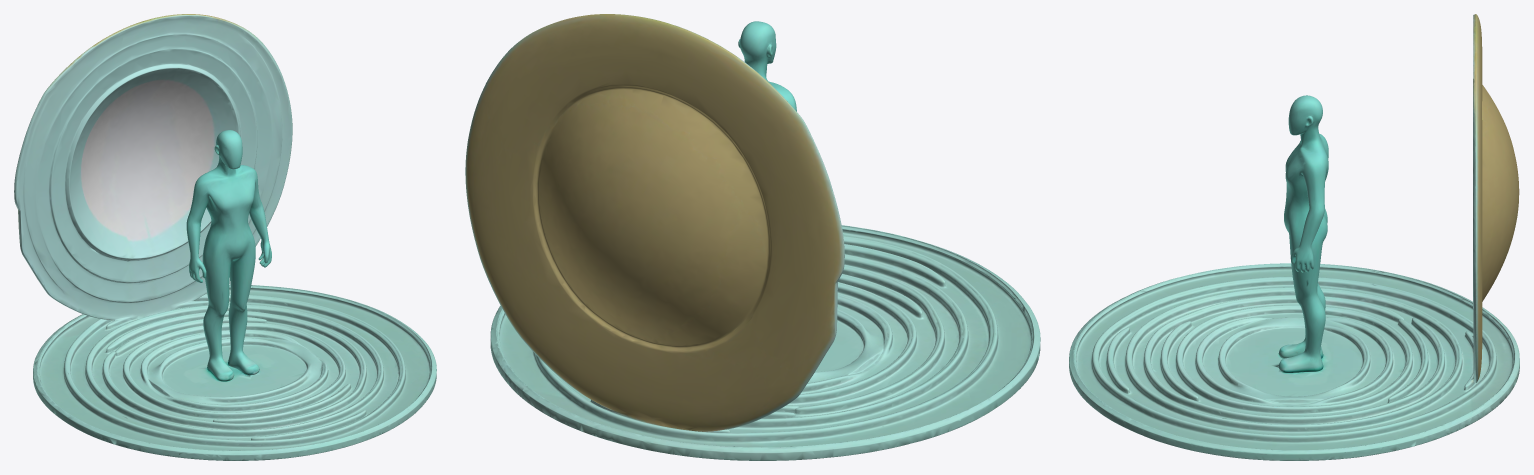
The model's file is model-web.glb.
3 views of the same model, side by side, from view 1: azimuth 30°, elevation 25°; view 2: azimuth 150°, elevation 25°; view 3: azimuth 270°, elevation 25° (orthographic). The views are drawn at different scales.
Parts seen in each view (by area): view 1: node_0; view 2: node_0; view 3: node_0.
Part boxes in pixels (box(x1,y1,x2,y2)): node_0: box(14, 14, 436, 460); node_0: box(465, 14, 1040, 460); node_0: box(1069, 14, 1519, 460).
Size of the model in its own units: 0.93 by 0.7592 by 0.9307.
Materials: 1 (1 with a texture image).
